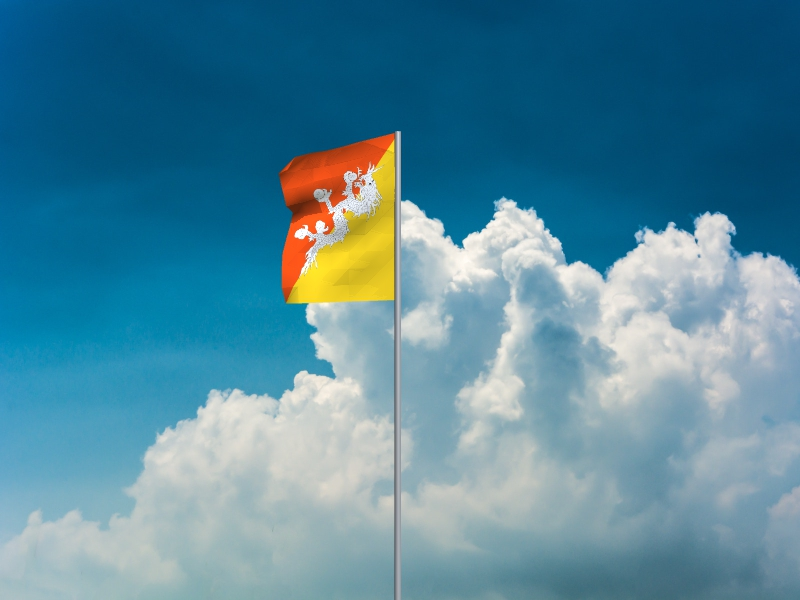bt: (278, 133, 395, 306)
